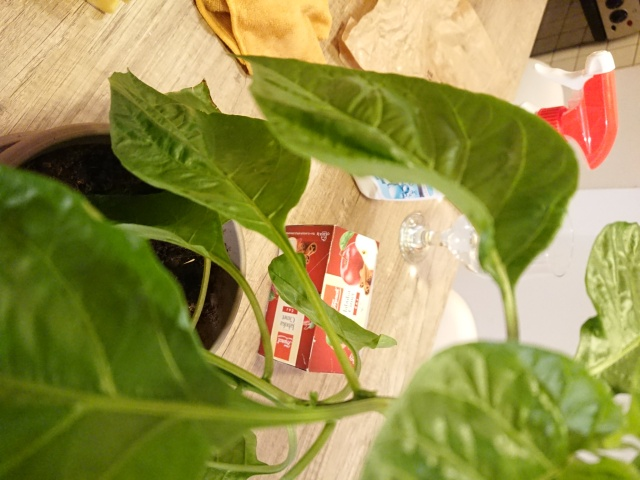Franck Apple Cinnamon Tea 60g: (254, 221, 383, 378)
